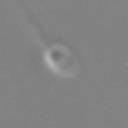normal: (12, 1, 49, 46)
